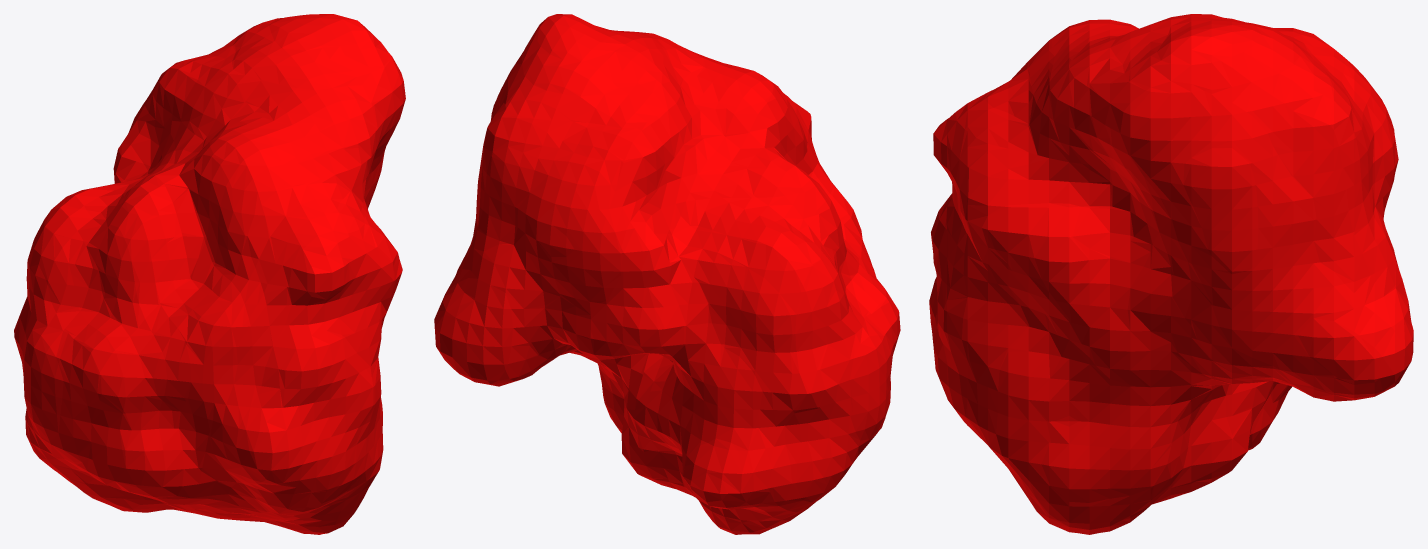
File: eno_coarse.dae
3 views of the same model, side by side, from view 1: azimuth 30°, elevation 25°; view 2: azimuth 150°, elevation 25°; view 3: azimuth 270°, elevation 25° (orthographic). The views are drawn at different scales.
Visible parts, largest first — view 1: eno; view 2: eno; view 3: eno.
Part boxes in pixels (x1,y1,x2,y2): eno: [14, 14, 405, 534]; eno: [434, 14, 900, 534]; eno: [929, 14, 1413, 534].
Size of the model in its own units: 54.73 by 66.21 by 54.08.
